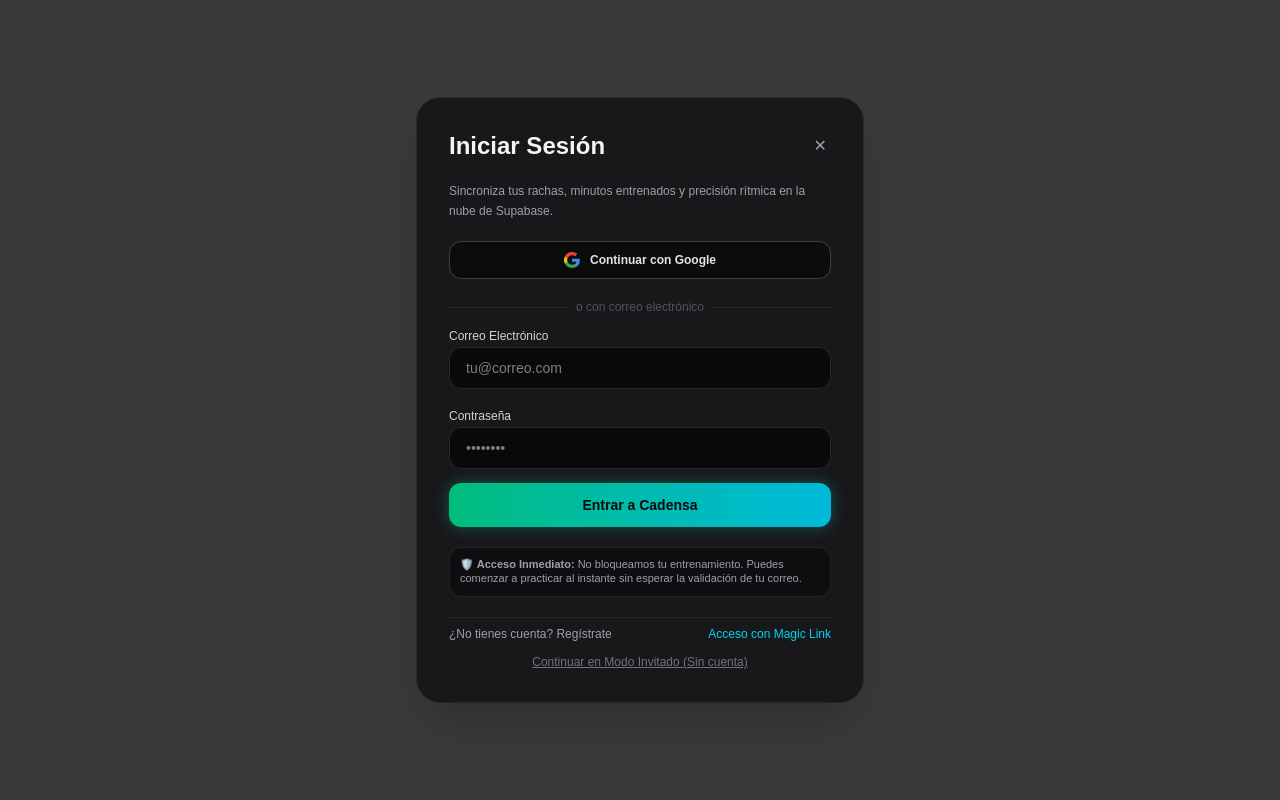
AuthModal Component - Unit Tests › permite alternar entre modo contraseña y modo enlace mágico (Magic Link)
The width and height of the screenshot is (1280, 800).
Step 1. Click the button "Acceso con Magic Link" → (770, 634), box [708,626,831,642]
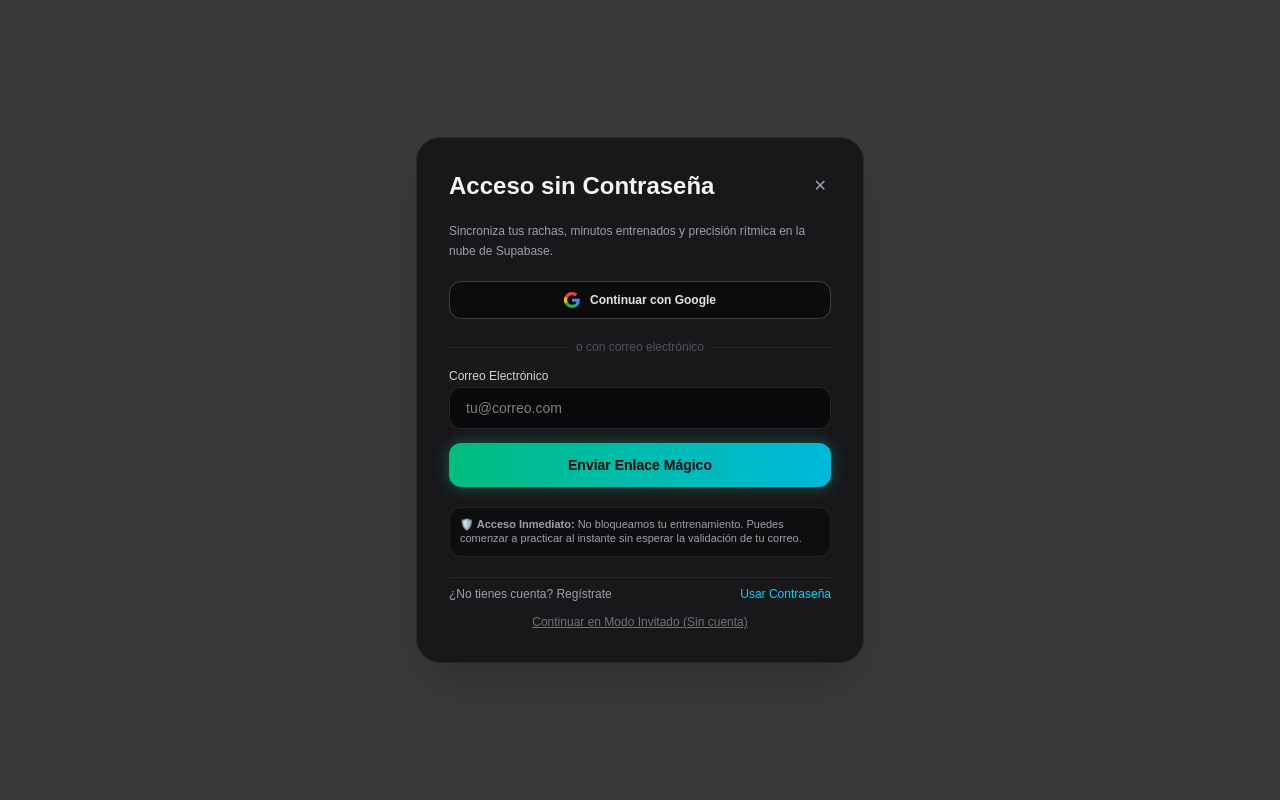
Expected: the heading "Acceso sin Contraseña" is shown, [449,170,714,202]
Expected: the password field with placeholder "••••••••" is gone
